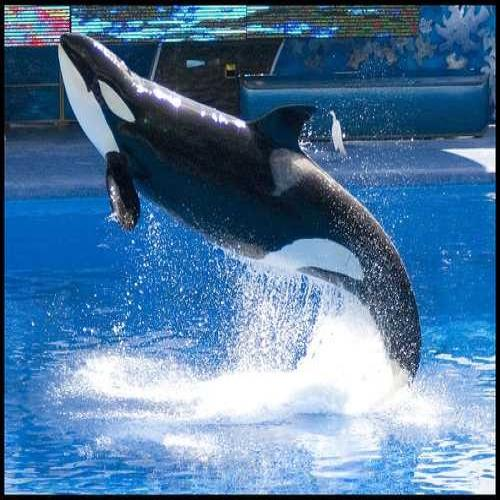killer_whale-endangered: (52, 16, 432, 354)
